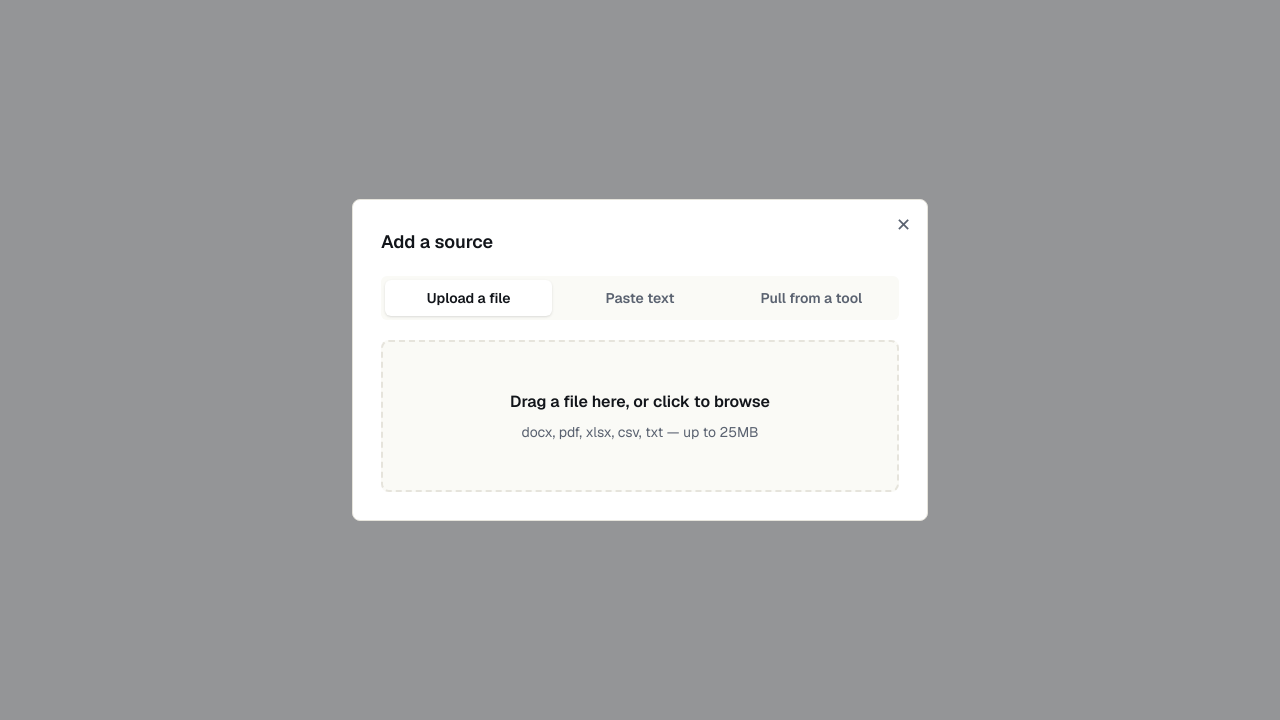
AddSourceModal › disables the paste-text CTA until text is entered
Click the button "Paste text": (640, 298) [556,280,724,316]
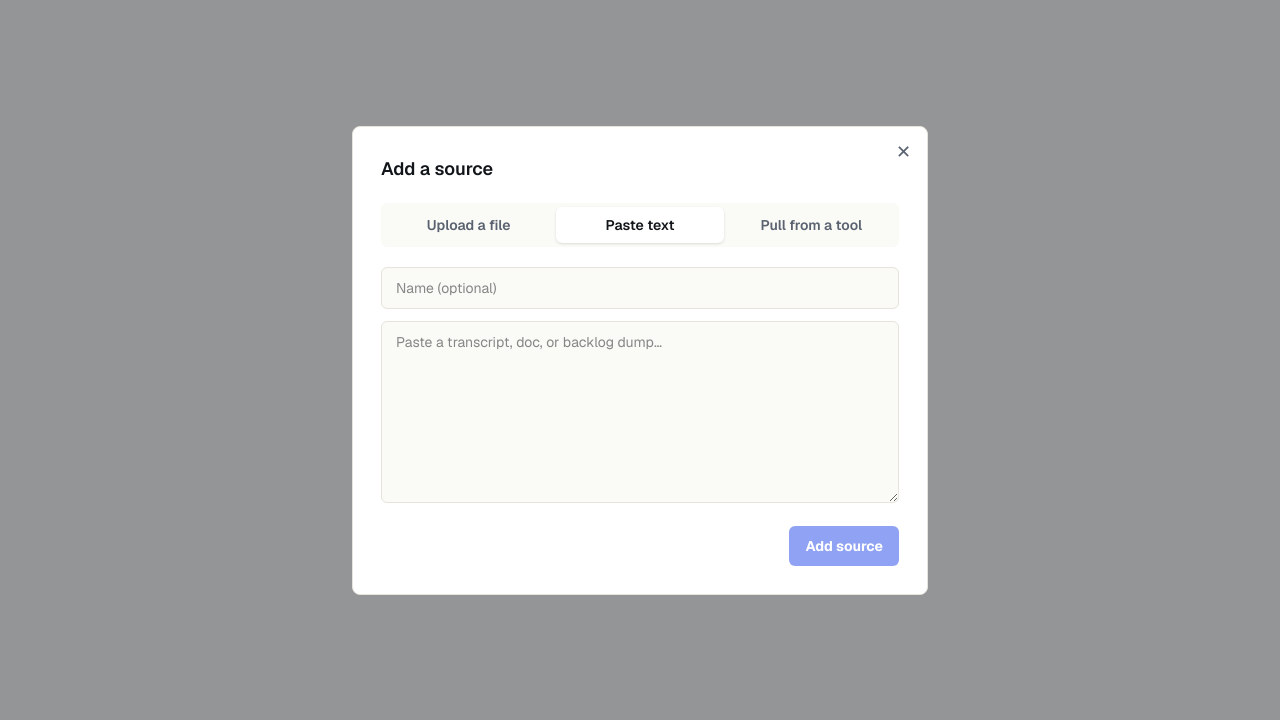
Now the button "Add source" is disabled, box [789,526,899,566]
